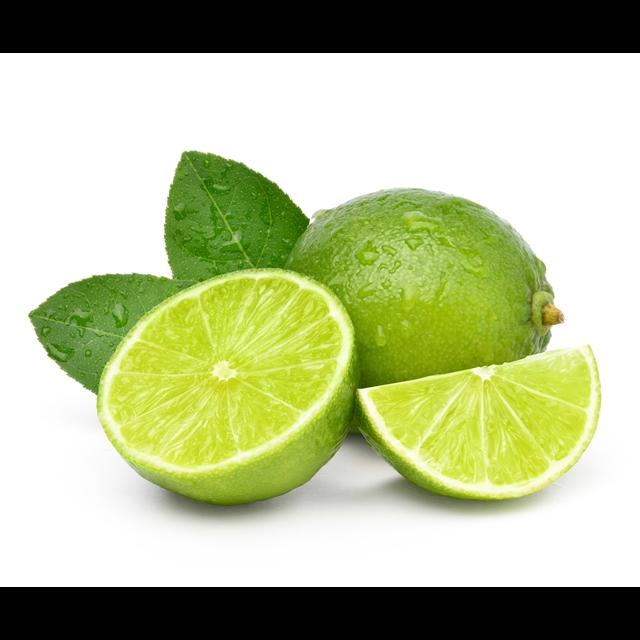lime: (282, 184, 567, 454)
